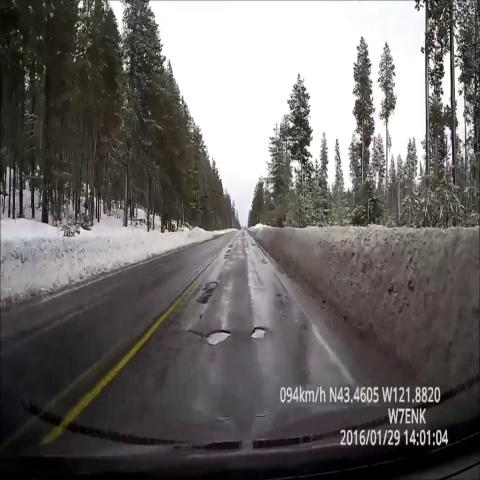pothole: (187, 319, 236, 354), (195, 273, 218, 313), (243, 320, 271, 351), (220, 236, 236, 267), (260, 252, 276, 271), (248, 235, 261, 250)
